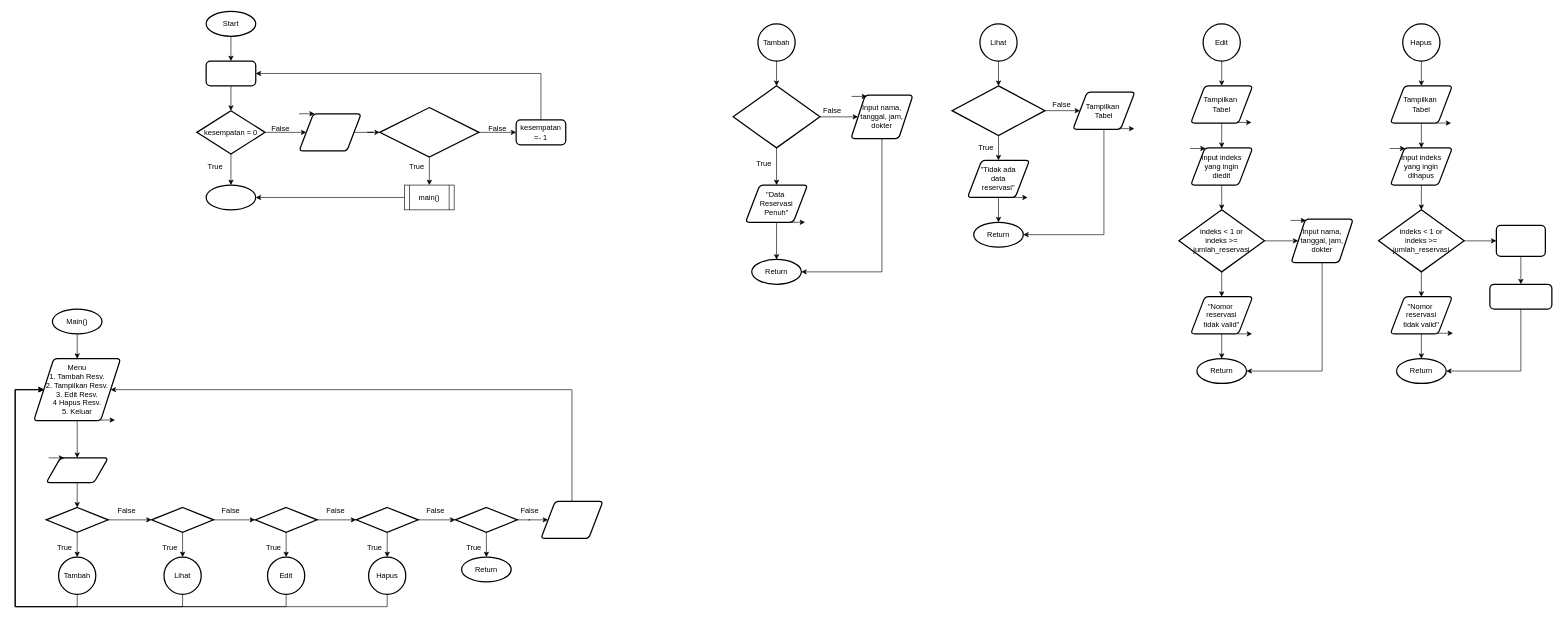
The diagram is 1563 pixels wide and 622 high, and some of its shapes have lost their labels. The shapes that lost their labels are listed below. From the top down, each one's centre as x and y in pixels, then its label:
pixel 230 73: kesempatan =3
pixel 776 116: jumlah reservasi >= MAX_RESERVASI
pixel 998 110: jumlah_reservasi == 0
pixel 329 132: Input nama & nim
pixel 429 132: nama == "britama" & nim == "2409106047"
pixel 230 197: End
pixel 1520 240: Hapus sesuai Indeks
pixel 1520 296: jumlah_reservasi =- 1
pixel 76 470: Input pilihan menu
pixel 76 520: pilihan == 1
pixel 182 520: pilihan == 2
pixel 285 520: pilihan == 3
pixel 386 520: pilihan == 4
pixel 486 520: pilihan == 5
pixel 571 519: "Pilihan tidak valid"
